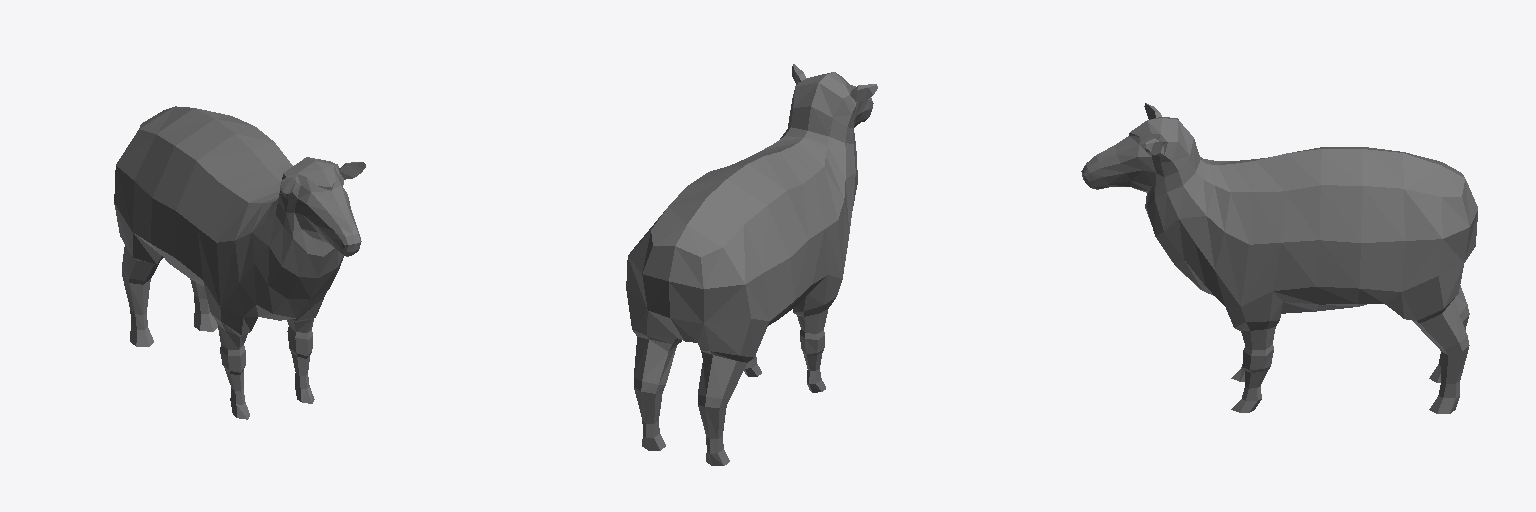
Rendered from Sheep_Short_Tailed.obj.
3 renders of one model, left to right at view 1: azimuth 30°, elevation 25°; view 2: azimuth 150°, elevation 25°; view 3: azimuth 270°, elevation 25°, orthographic.
Visible parts, largest first — view 1: Sheep_mesh; view 2: Sheep_mesh; view 3: Sheep_mesh.
Part boxes in pixels (x1,y1,x2,y2): Sheep_mesh: (114,106,365,419); Sheep_mesh: (626,64,877,465); Sheep_mesh: (1081,103,1477,413).
Bounding box in the file's own units: 2.46 × 4.93 × 6.42.